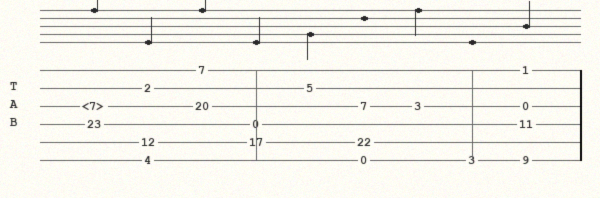0: (252, 118, 263, 130), (360, 154, 371, 166), (522, 100, 533, 112)
1: (522, 64, 533, 76)
11: (519, 118, 537, 130)
12: (141, 136, 159, 148)
17: (249, 136, 267, 148)
2: (144, 82, 155, 94)
20: (195, 100, 213, 112)
22: (357, 136, 375, 148)
23: (87, 118, 105, 130)
3: (414, 100, 425, 112), (468, 154, 479, 166)
4: (144, 154, 155, 166)
5: (306, 82, 317, 94)
7: (198, 64, 209, 76), (360, 100, 371, 112)
9: (522, 154, 533, 166)
harmonic: (82, 100, 109, 112)
